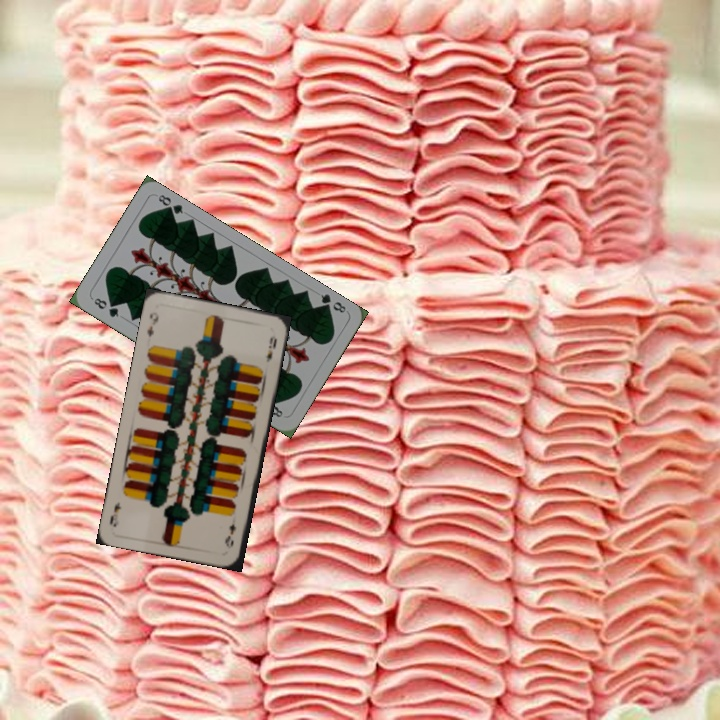E9: (143, 308, 161, 340), (222, 519, 239, 552)
G8: (316, 290, 349, 316), (90, 294, 121, 320)
